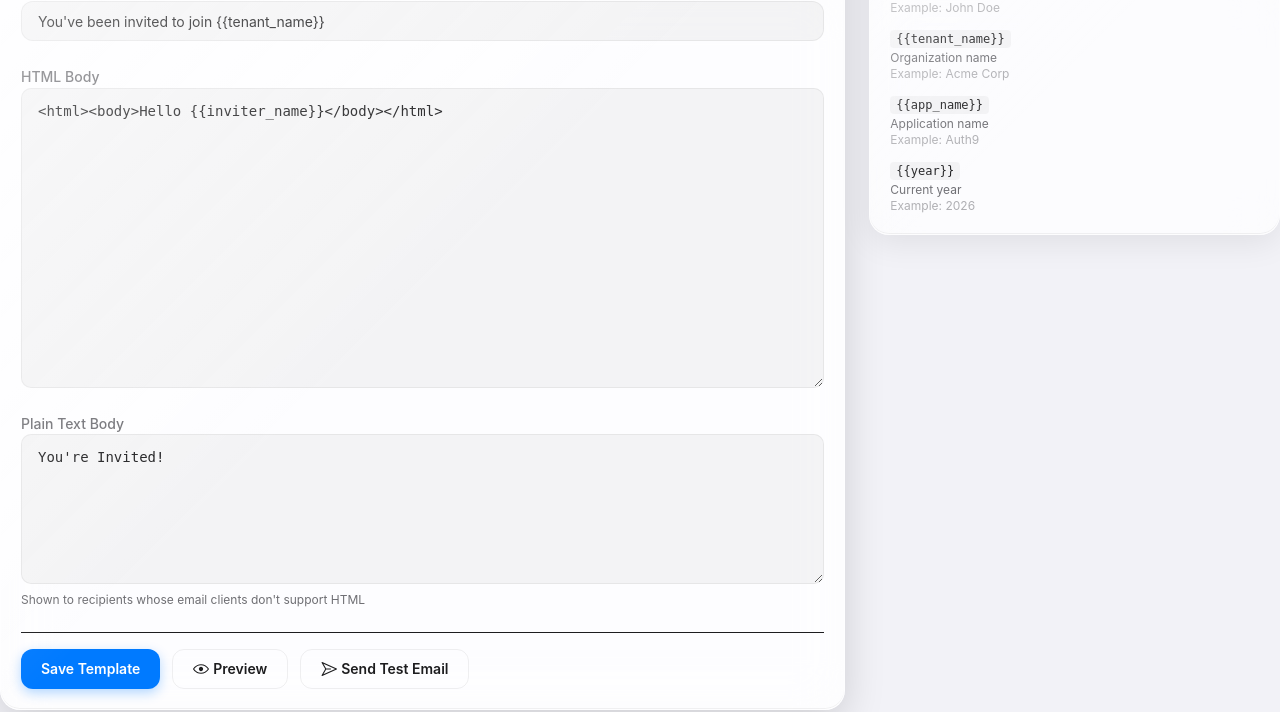
it: Email Template Editor Page › opens send test email dialog when clicking Send Test Email button
(page scrolled)
// Click "Send Test Email" button to open the dialog
Click the button "Send Test Email" at [385, 669], box [300, 649, 470, 689]
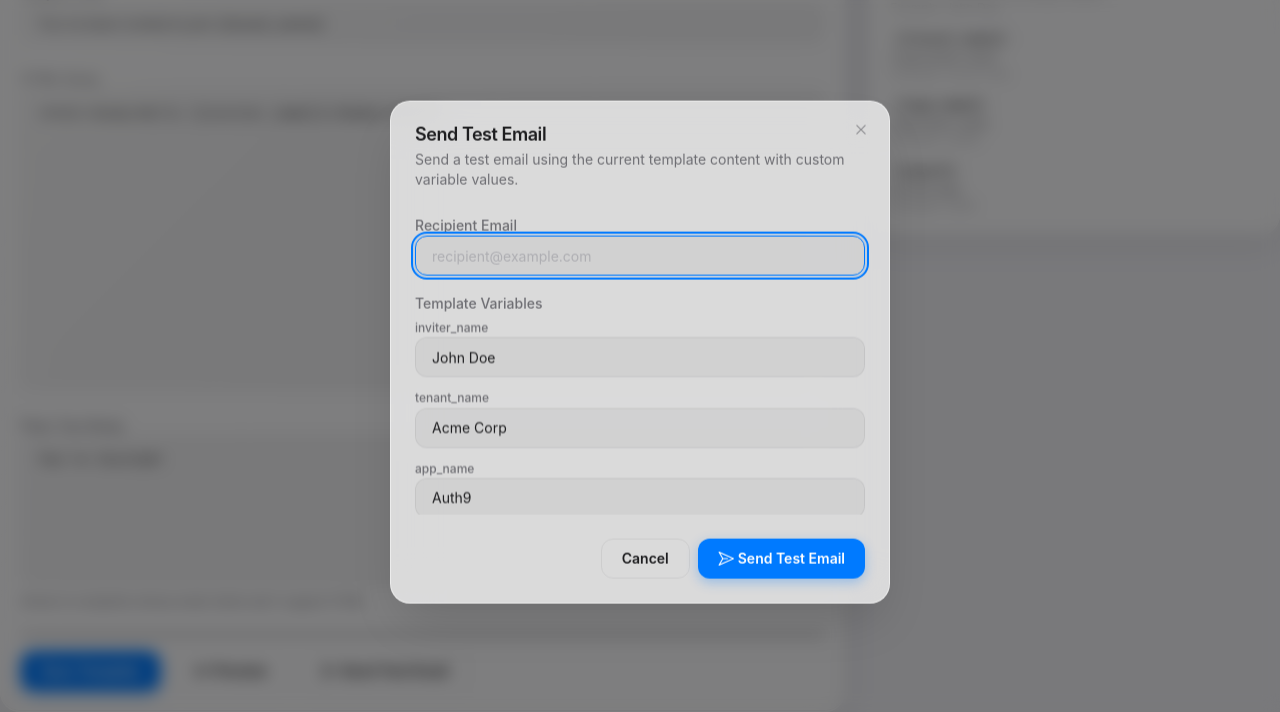
Now the text "Send a test email using the current template content with custom variable values." is shown, box [415, 151, 844, 188]
Now the field labelled "Recipient Email" is shown, box [415, 236, 865, 276]
